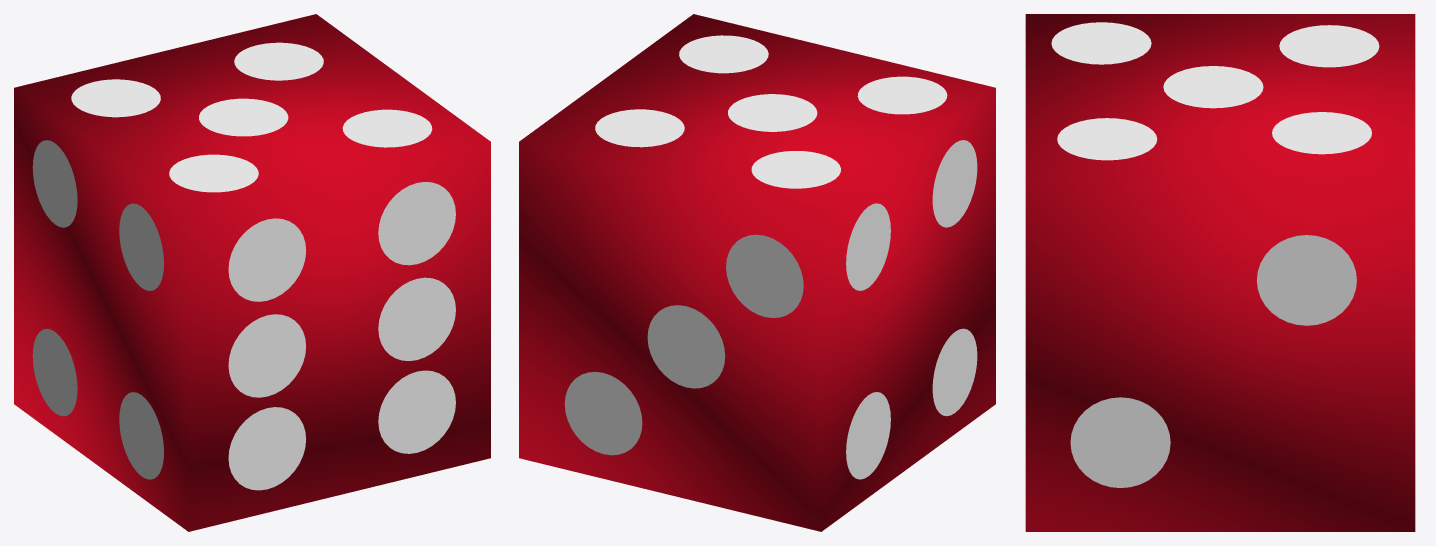
File: dice.fbx
The picture shows the model from 3 angles, left to right: view 1: azimuth 30°, elevation 25°; view 2: azimuth 150°, elevation 25°; view 3: azimuth 270°, elevation 25°; orthographic projection. The views are drawn at different scales.
Visible parts, largest first — view 1: Cube, Circle_016, Circle_017, Circle_019, Circle_018, Circle_014, Circle_015, Circle_006, Circle_008, Circle_007, Circle_005, Circle_002 (+4 smaller); view 2: Cube, Circle_011, Circle_013, Circle_012, Circle_005, Circle_007, Circle_006, Circle_008, Circle_003, Circle_002, Circle_001, Circle (+1 smaller); view 3: Cube, Circle_022, Circle_020, Circle_001, Circle_004, Circle_003, Circle_002, Circle.
Part boxes in pixels (bbox=[...]): Cube: bbox=[14, 14, 490, 531]; Circle_016: bbox=[378, 370, 455, 453]; Circle_017: bbox=[228, 407, 306, 490]; Circle_019: bbox=[378, 182, 455, 265]; Circle_018: bbox=[228, 218, 306, 301]; Circle_014: bbox=[228, 314, 305, 397]; Circle_015: bbox=[378, 277, 455, 360]; Circle_006: bbox=[32, 140, 77, 227]; Circle_008: bbox=[119, 392, 163, 479]; Circle_007: bbox=[32, 328, 77, 416]; Circle_005: bbox=[119, 203, 163, 290]; Circle_002: bbox=[234, 42, 323, 80]; Cube: bbox=[519, 14, 995, 531]; Circle_011: bbox=[564, 372, 642, 455]; Circle_013: bbox=[647, 305, 725, 388]; Circle_012: bbox=[726, 234, 803, 317]; Circle_005: bbox=[932, 140, 977, 227]; Circle_007: bbox=[846, 392, 890, 479]; Circle_006: bbox=[846, 203, 890, 290]; Circle_008: bbox=[932, 328, 977, 416]; Circle_003: bbox=[679, 35, 768, 73]; Circle_002: bbox=[595, 109, 684, 147]; Circle_001: bbox=[857, 76, 947, 114]; Circle: bbox=[728, 94, 817, 131]; Cube: bbox=[1025, 14, 1415, 531]; Circle_022: bbox=[1070, 397, 1170, 487]; Circle_020: bbox=[1256, 235, 1356, 325]; Circle_001: bbox=[1051, 22, 1151, 64]; Circle_004: bbox=[1279, 25, 1379, 67]; Circle_003: bbox=[1057, 118, 1157, 160]; Circle_002: bbox=[1272, 112, 1371, 154]; Circle: bbox=[1163, 66, 1263, 108].
Bounding box in the file's own units: 2.05 × 2.04 × 2.04.
